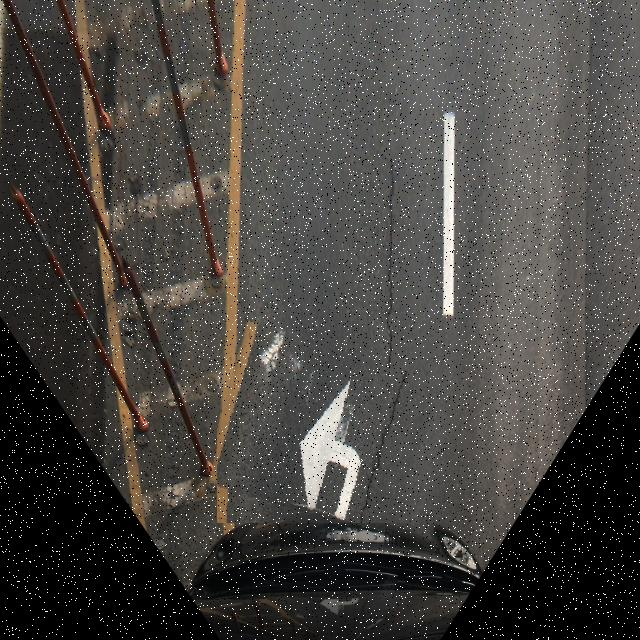left: (217, 333, 463, 523)
